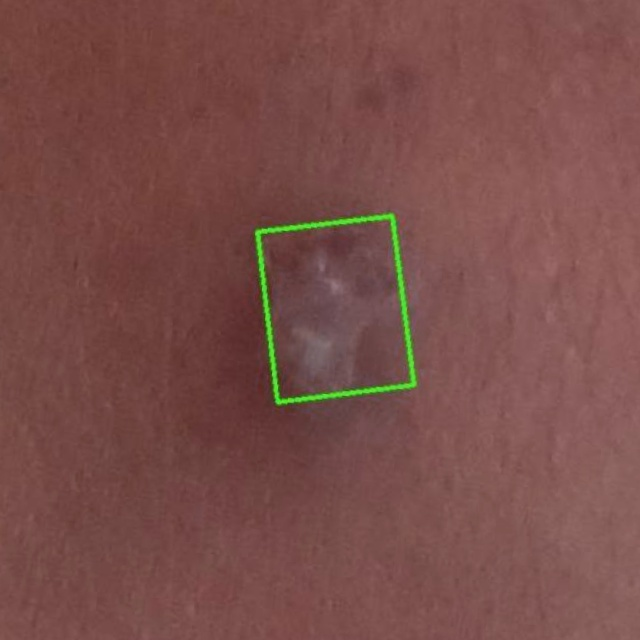Contact Dermatitis: (256, 216, 413, 402)
